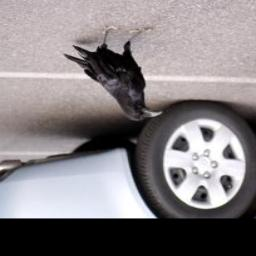Crow: (61, 26, 162, 125)
